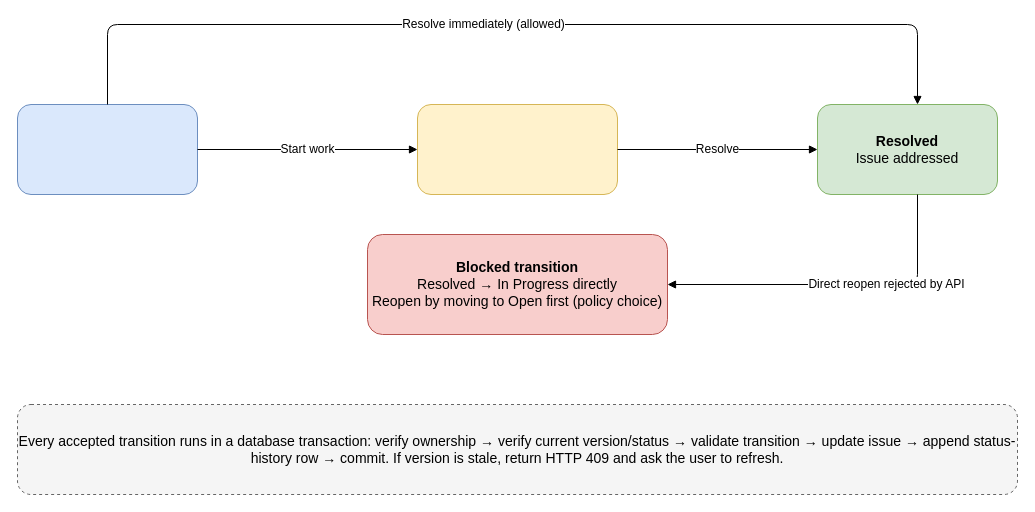
This 1035x512 diagram has some shape labels left out. Here are the shapes that lost their labels. From the top down, the box of each, then its label:
(16, 104, 198, 194): Open Newly reported issue
(416, 104, 618, 194): In Progress Someone is investigating
